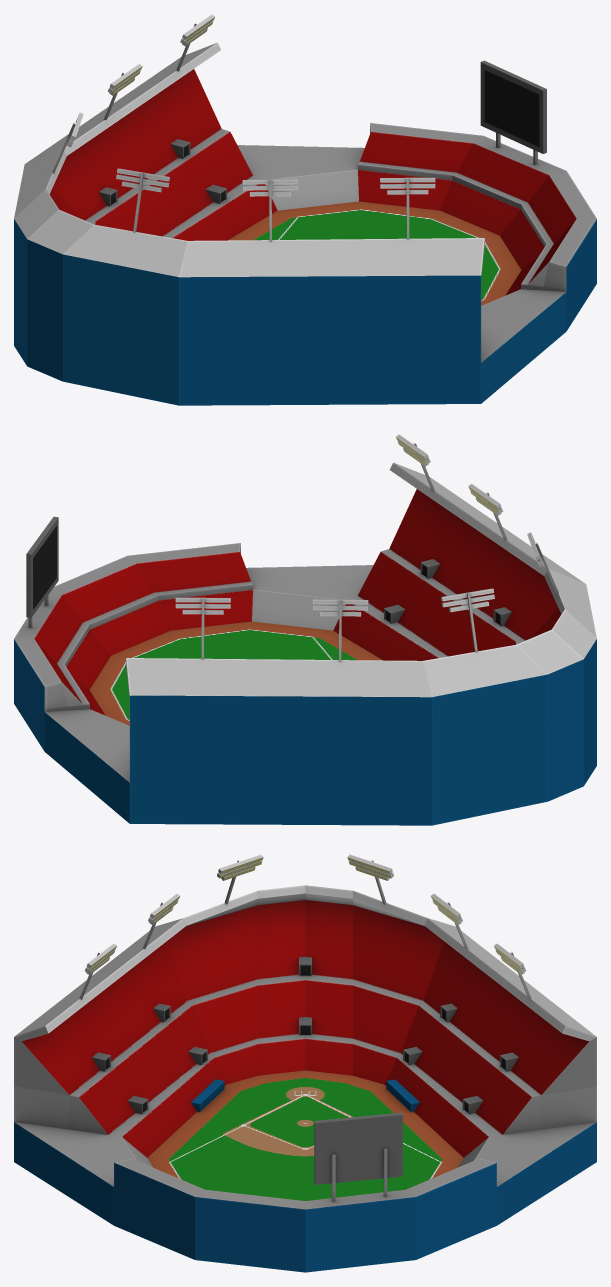
File: Ballpark.obj
The picture shows the model from 3 angles, top to bottom: view 1: azimuth 30°, elevation 25°; view 2: azimuth 150°, elevation 25°; view 3: azimuth 270°, elevation 25°; orthographic projection. The views are drawn at different scales.
Visible parts, largest first — view 1: Ballpark_mesh; view 2: Ballpark_mesh; view 3: Ballpark_mesh.
Part boxes in pixels (x1=…): Ballpark_mesh: x1=14, y1=14, x2=596, y2=405; Ballpark_mesh: x1=14, y1=434, x2=596, y2=825; Ballpark_mesh: x1=14, y1=854, x2=596, y2=1272.
Size of the model in its own units: 34.23 by 12.19 by 32.89.
Materials: 1 (1 with a texture image).
